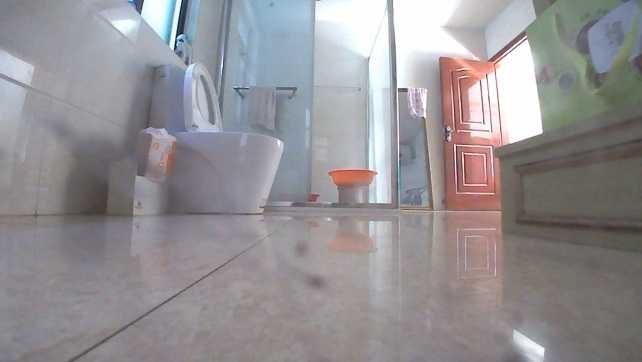toilet: (142, 60, 286, 217)
